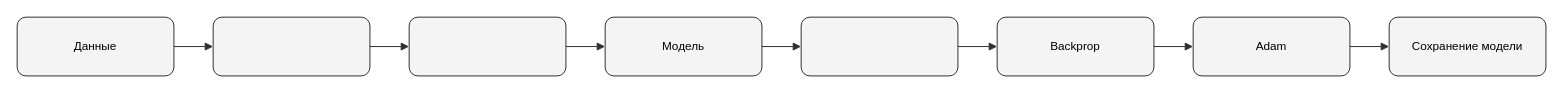
Image size: 1563x93. Some labels were removed from this diagram. Each missing label, with the centre of its shape:
"DataLoader" belongs at point 487,46.
"Loss" belongs at point 879,46.
"Аугментации" belongs at point 291,46.
